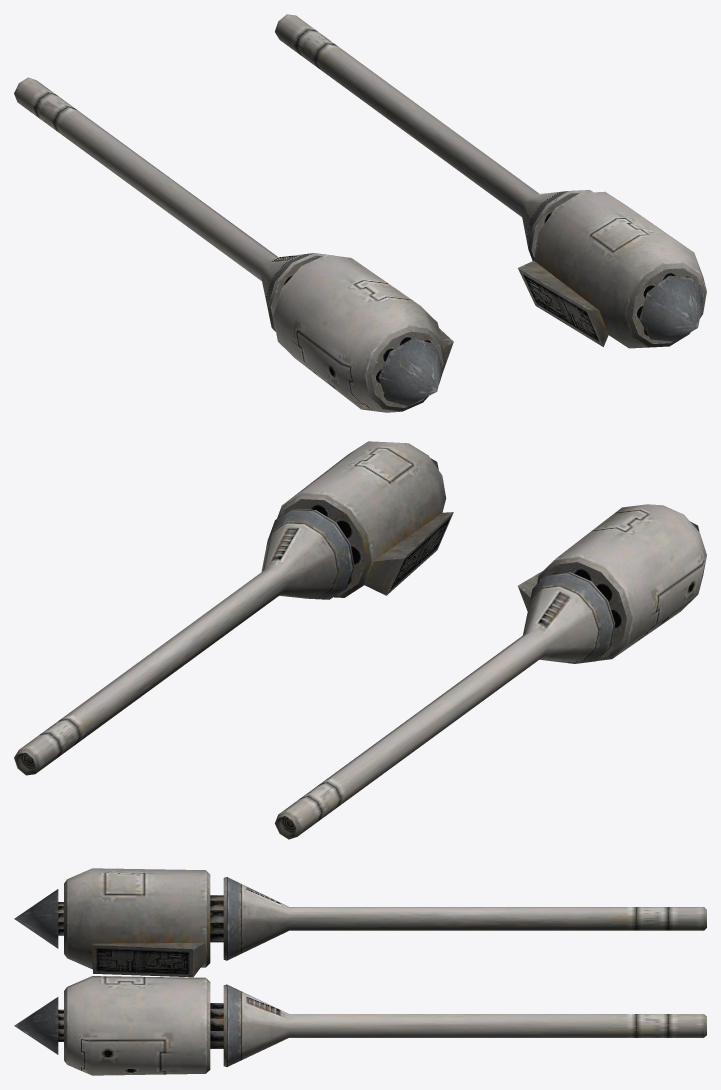
Rendered from hutt_fighter_medium_booster_s02_l0.fbx.
3 views of the same model, one above another, from view 1: azimuth 30°, elevation 25°; view 2: azimuth 150°, elevation 25°; view 3: azimuth 270°, elevation 25° (orthographic). The views are drawn at different scales.
Parts seen in each view (by area): view 1: mesh_node; view 2: mesh_node; view 3: mesh_node.
Part boxes in pixels (box(x1,y1,x2,y2)): mesh_node: box(14, 14, 706, 412); mesh_node: box(14, 441, 706, 839); mesh_node: box(14, 868, 706, 1075).
Bounding box in the file's own units: 4.54 × 1.29 × 8.88.
